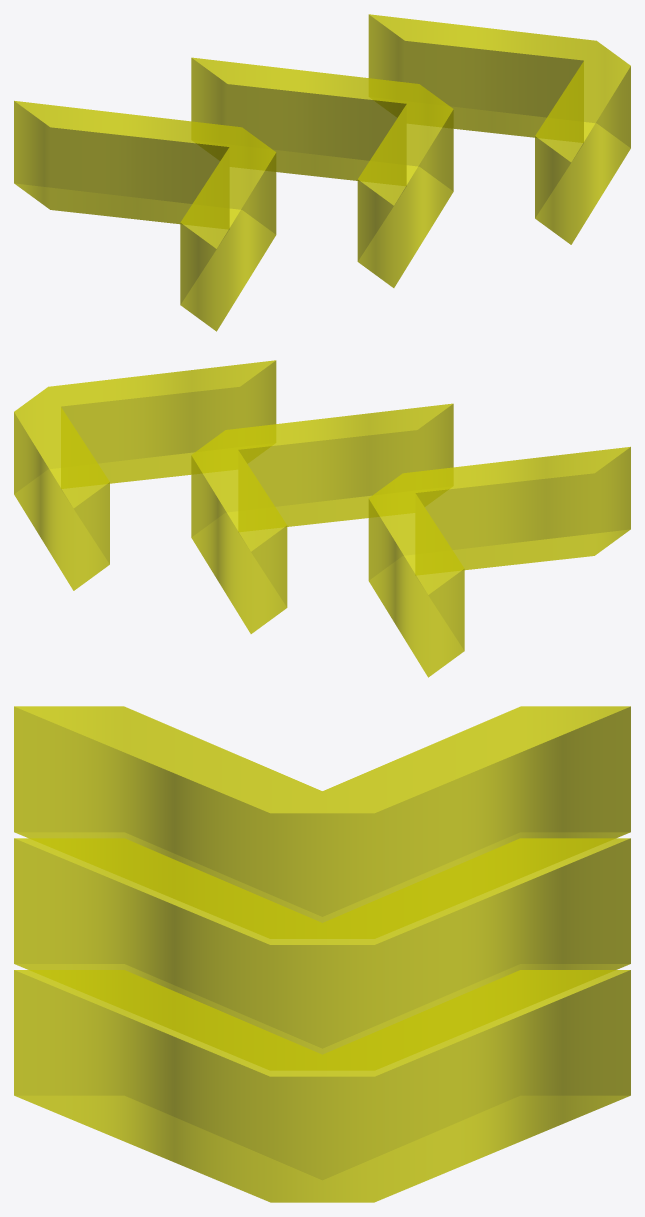
File: Boost.fbx
The picture shows the model from 3 angles, top to bottom: view 1: azimuth 30°, elevation 25°; view 2: azimuth 150°, elevation 25°; view 3: azimuth 270°, elevation 25°; orthographic projection. The views are drawn at different scales.
Visible parts, largest first — view 1: Text; view 2: Text; view 3: Text.
Boxes of the visible parts, x1,y1,x2,y2 form: Text: (14,14,630,331); Text: (14,360,630,677); Text: (14,706,630,1202).
Size of the model in its own units: 164 by 26 by 116.
